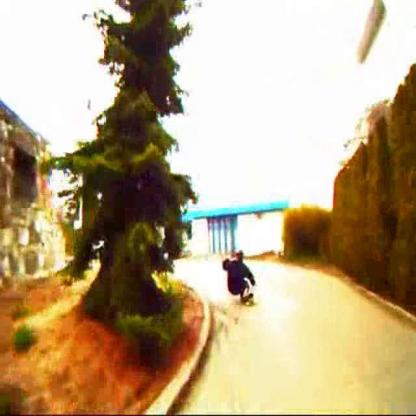other: (236, 202, 287, 286)
